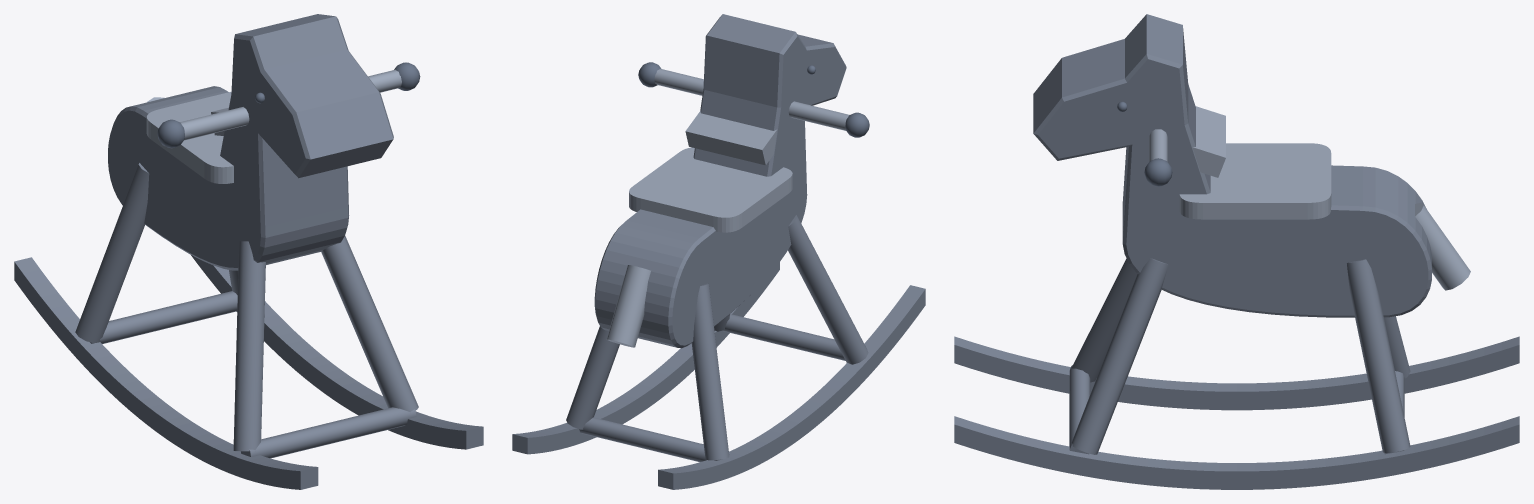
File: rocking-horse-lite.glb
3 views of the same model, side by side, from view 1: azimuth 30°, elevation 25°; view 2: azimuth 150°, elevation 25°; view 3: azimuth 270°, elevation 25° (orthographic). The views are drawn at different scales.
Parts seen in each view (by area): view 1: rocking-horse-frame, rocking-horse-soft, rocking-horse-accent, rocking-horse-dark; view 2: rocking-horse-frame, rocking-horse-soft, rocking-horse-accent, rocking-horse-dark; view 3: rocking-horse-frame, rocking-horse-soft, rocking-horse-accent, rocking-horse-dark.
Part boxes in pixels (x1=…): rocking-horse-frame: x1=14, y1=14, x2=483, y2=489; rocking-horse-soft: x1=146, y1=91, x2=233, y2=183; rocking-horse-accent: x1=147, y1=69, x2=401, y2=140; rocking-horse-dark: x1=157, y1=62, x2=420, y2=148; rocking-horse-frame: x1=512, y1=14, x2=925, y2=489; rocking-horse-soft: x1=629, y1=147, x2=792, y2=232; rocking-horse-accent: x1=606, y1=68, x2=849, y2=347; rocking-horse-dark: x1=638, y1=62, x2=869, y2=137; rocking-horse-frame: x1=954, y1=14, x2=1519, y2=489; rocking-horse-soft: x1=1179, y1=143, x2=1331, y2=219; rocking-horse-accent: x1=1149, y1=106, x2=1470, y2=290; rocking-horse-dark: x1=1117, y1=101, x2=1172, y2=186.
Size of the model in its own units: 0.564 by 0.8682 by 1.08.
